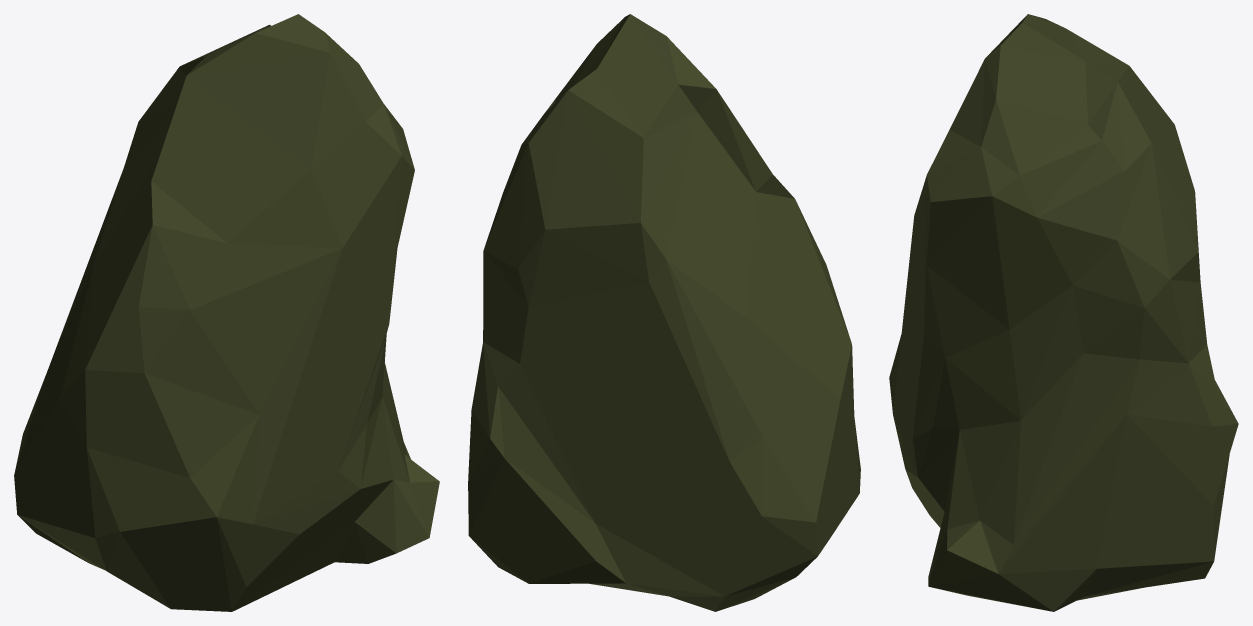
The model's file is SM_small_rock_12.fbx.
3 renders of one model, left to right at view 1: azimuth 30°, elevation 25°; view 2: azimuth 150°, elevation 25°; view 3: azimuth 270°, elevation 25°, orthographic. The views are drawn at different scales.
Visible parts, largest first — view 1: small_rock_12; view 2: small_rock_12; view 3: small_rock_12.
Boxes of the visible parts, x1,y1,x2,y2 form: small_rock_12: (14,14,439,611); small_rock_12: (468,14,860,611); small_rock_12: (889,14,1238,611).
Bounding box in the file's own units: 12.09 × 17.9 × 10.27.
